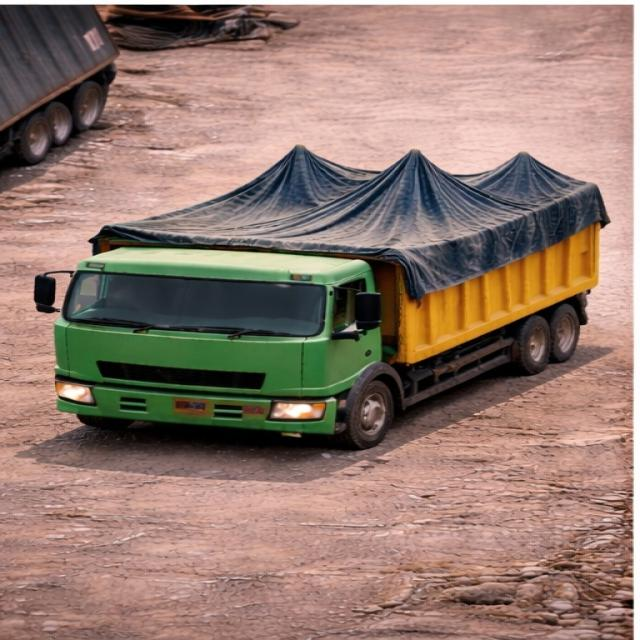Box: (94, 147, 598, 255)
Truck: (32, 139, 606, 448)
